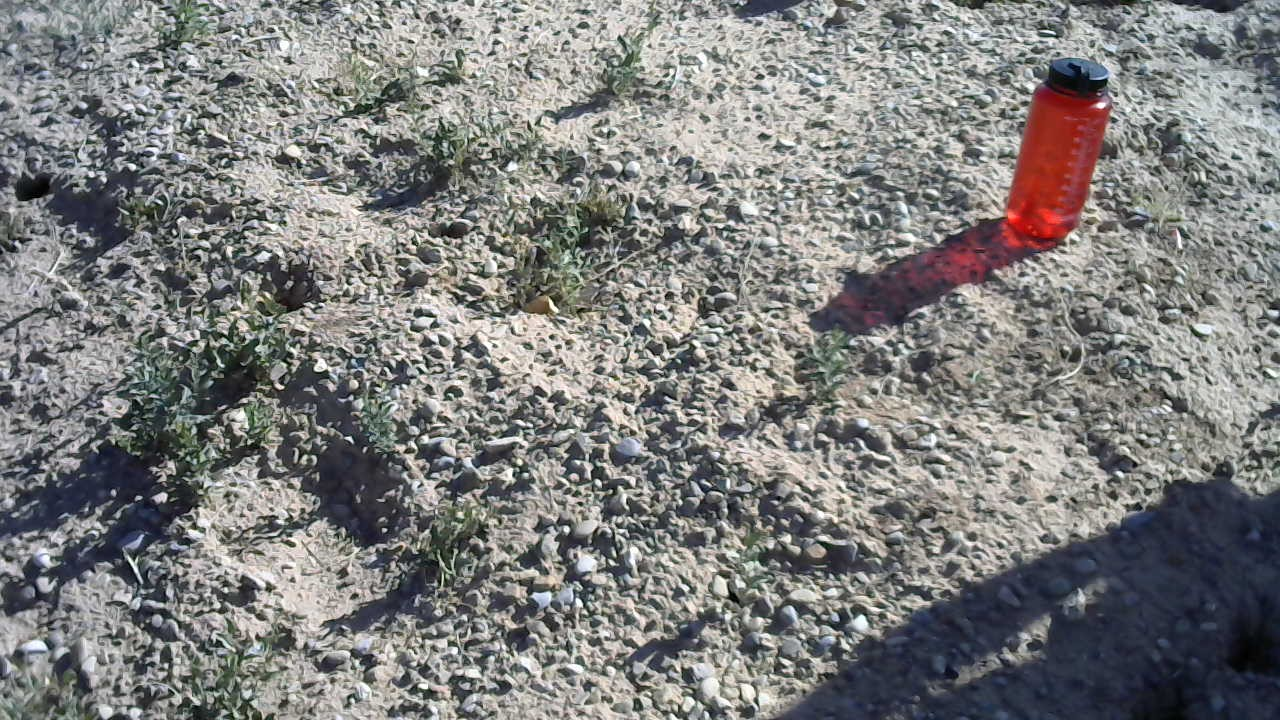bottle: (1000, 50, 1116, 247)
